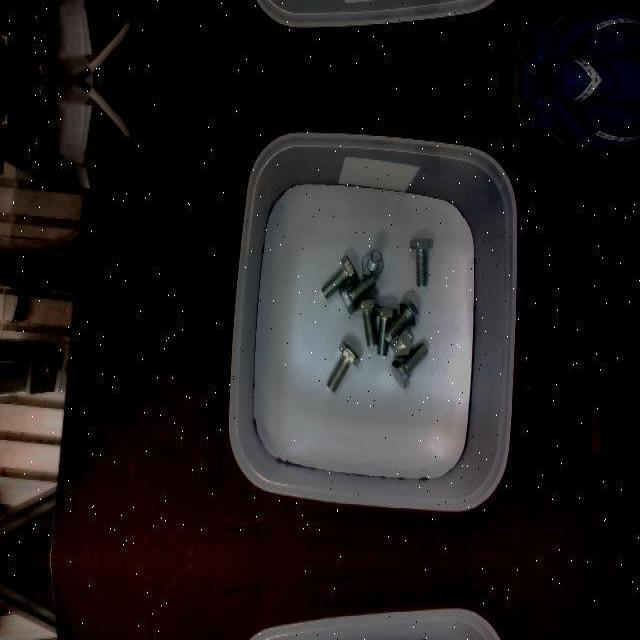screw: (326, 343, 360, 391), (321, 254, 358, 298), (392, 344, 428, 388), (385, 297, 419, 343), (338, 274, 374, 314), (354, 296, 378, 346), (410, 238, 433, 284), (363, 249, 384, 279)
